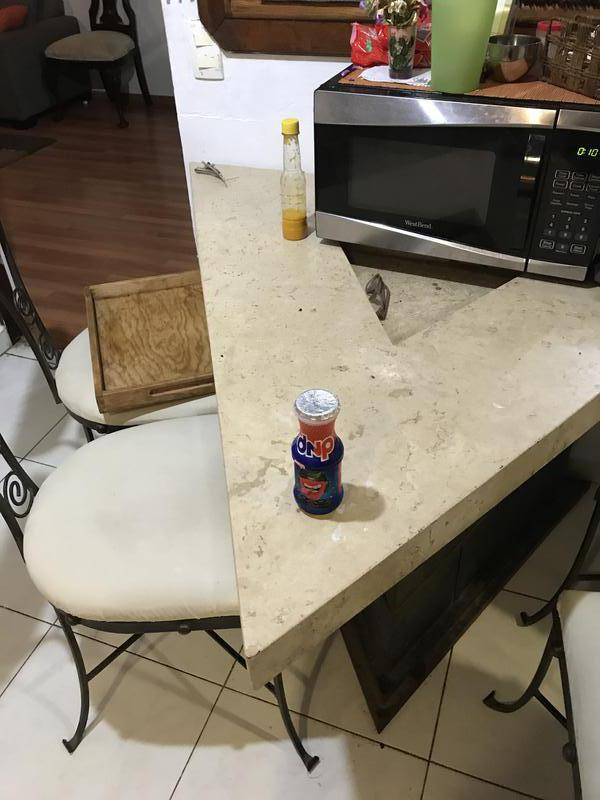danup: (290, 385, 344, 519)
